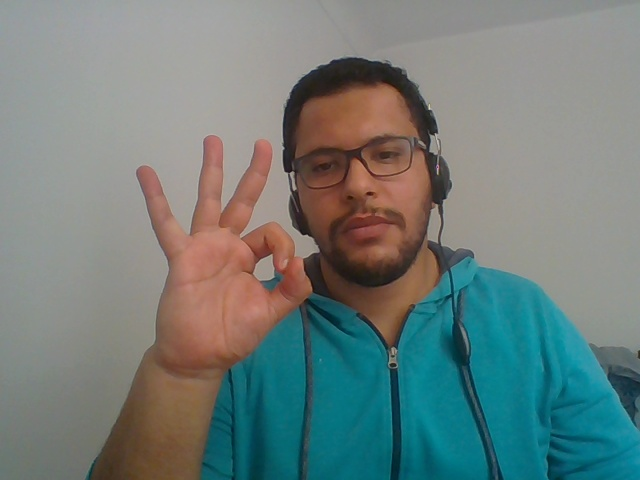okay: (102, 126, 328, 410)
